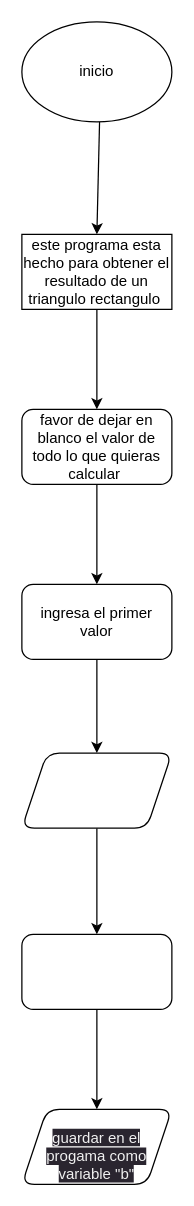
The diagram is 194 pixels wide and 1206 high, and some of its shapes have lost their labels. The shapes that lost their labels are listed below. From the top down, each one's centre as x and y in pixels, then its label:
(96,790): guardar en el progama como variable "a"
(96,971): ingresa el segundo valor
